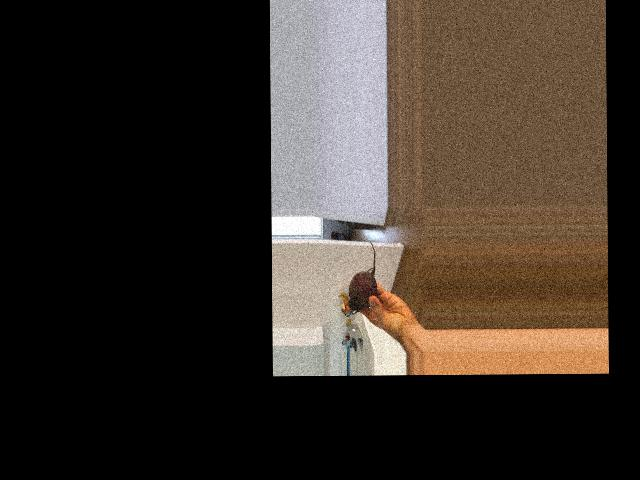beet: (347, 240, 377, 314)
